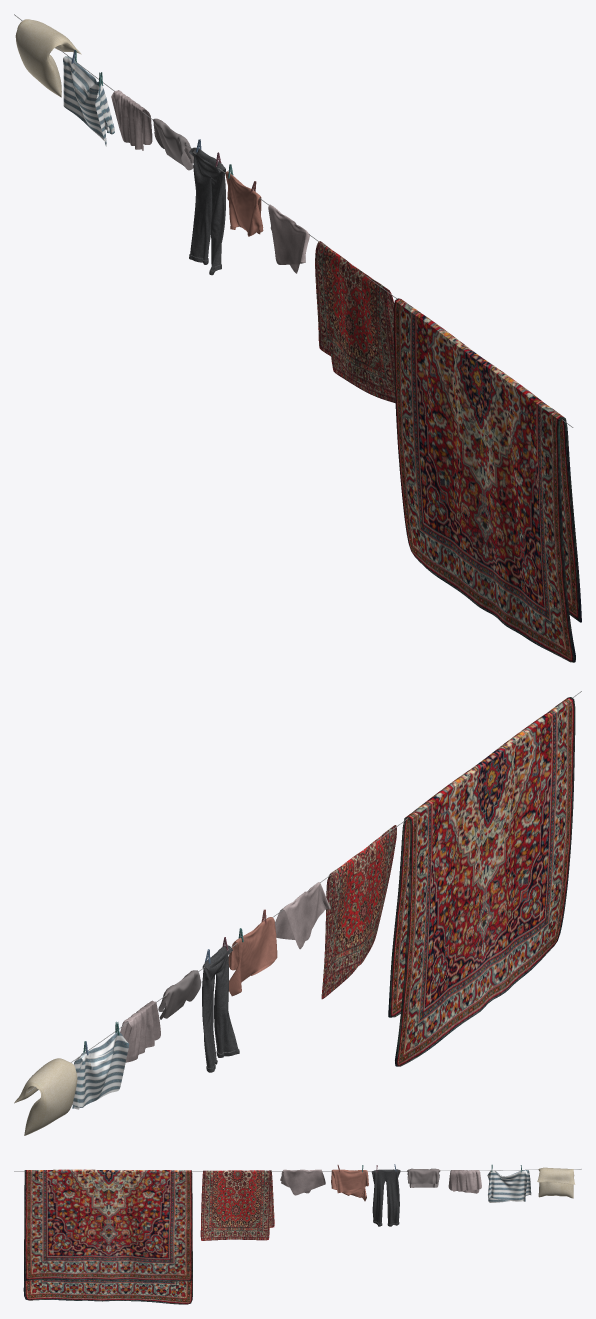
Rendered from HangedClothes.fbx.
3 views of the same model, one above another, from view 1: azimuth 30°, elevation 25°; view 2: azimuth 150°, elevation 25°; view 3: azimuth 270°, elevation 25° (orthographic). The views are drawn at different scales.
Parts seen in each view (by area): view 1: Clothes_ModelMain_2; view 2: Clothes_ModelMain_2; view 3: Clothes_ModelMain_2.
Part boxes in pixels (x1,y1,x2,y2): Clothes_ModelMain_2: (15,19,581,662); Clothes_ModelMain_2: (14,697,575,1135); Clothes_ModelMain_2: (23,1167,575,1304).
Bounding box in the file's own units: 28.22 × 179 × 670.
